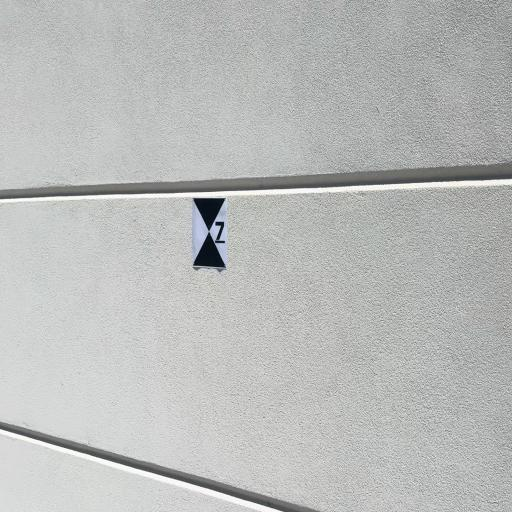target7: (192, 197, 227, 269)
